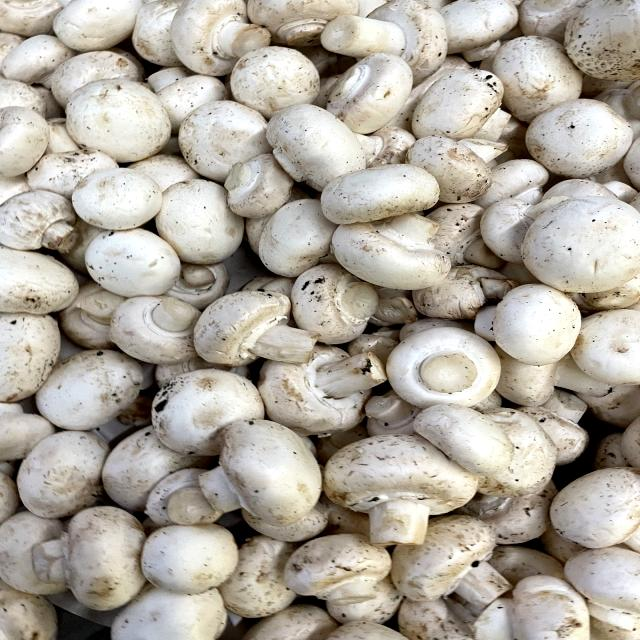mushroom: (319, 421, 485, 554), (386, 508, 534, 622), (183, 414, 329, 526), (25, 502, 156, 616), (249, 99, 399, 197), (187, 283, 324, 376), (328, 201, 463, 294), (382, 321, 514, 415), (467, 274, 592, 364), (65, 161, 167, 234)
